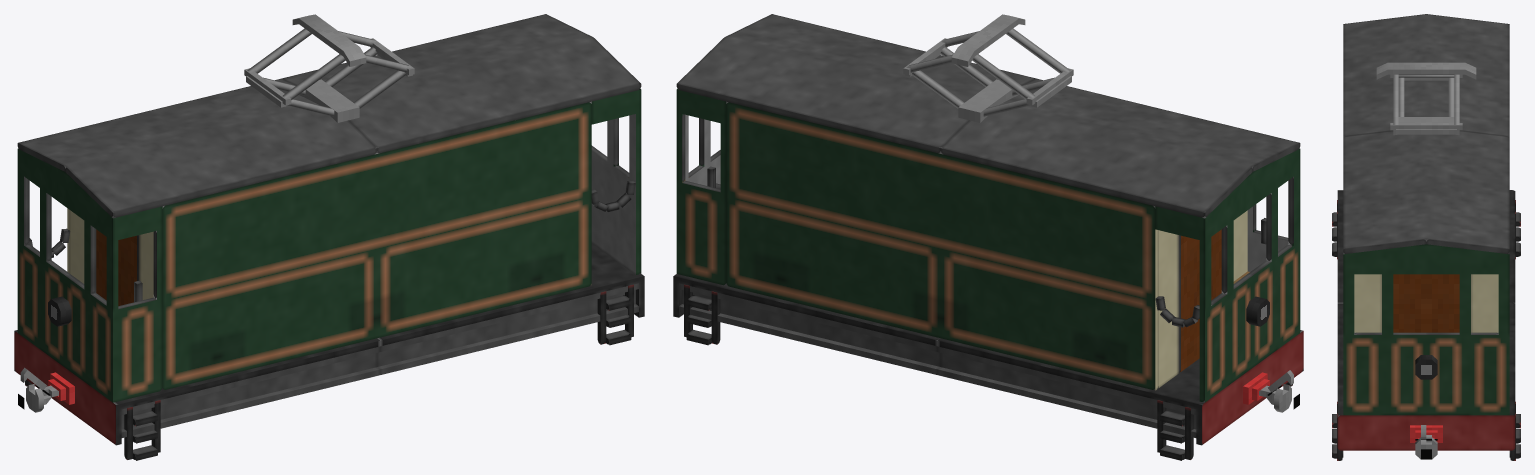
File: kitsune_electra_locomotive.obj
3 views of the same model, side by side, from view 1: azimuth 30°, elevation 25°; view 2: azimuth 150°, elevation 25°; view 3: azimuth 270°, elevation 25° (orthographic). The views are drawn at different scales.
Parts seen in each view (by area): view 1: FRAME_cab_Cube.041, FRAME_cab_roof_Cube.030, FRAME_cab.001_Cube.041, FRAME_Cube.005, FRAME.001_Cube.006, FRAME_INTERIOR_cab.001_Cube.044, FRAME_INTERIOR_cab_Cube.044, pantoarmtopfront_pantoarmtop, pantohead, DOOR_1_INTERIOR_Cube.009, COUPLER_ENGAGED_FRONT_1_TOGGLE_LABEL_Uncouple_Cube.018, pantoarmbottomrear_pantoarmtop.001 (+4 smaller); view 2: FRAME_cab_Cube.041, FRAME_cab_roof_Cube.030, FRAME_cab.001_Cube.041, FRAME_Cube.005, FRAME.001_Cube.006, FRAME_INTERIOR_cab_Cube.044, DOOR_2_INTERIOR_Cube.035, pantoarmtopfront_pantoarmtop, pantohead, COUPLER_ENGAGED_FRONT_1_TOGGLE_LABEL_Uncouple_Cube.018, FRAME_INTERIOR_cab.001_Cube.044, pantoarmbottomrear_pantoarmtop.001 (+4 smaller); view 3: FRAME_cab_roof_Cube.030, FRAME_cab.001_Cube.041, FRAME.001_Cube.006, FRAME_INTERIOR_cab.001_Cube.044, FRAME_Cube.005, DOOR_3_INTERIOR_Cube.038, DOOR_4_INTERIOR_Cube.039, pantohead, pantoarmtoprear_pantoarmtop, COUPLER_ENGAGED_REAR_2_TOGGLE_LABEL_Uncouple_Cube.018, pantoarmbottomfront_pantoarmtop.001, WIDGET_2_CG_headrear_TOGGLE_LABEL_Rear^Headlight_Cube.017 (+1 smaller).
Part boxes in pixels (x1=…): FRAME_cab_Cube.041: x1=17, y1=148, x2=376, y2=402; FRAME_cab_roof_Cube.030: x1=17, y1=14, x2=641, y2=217; FRAME_cab.001_Cube.041: x1=377, y1=88, x2=641, y2=338; FRAME_Cube.005: x1=14, y1=330, x2=380, y2=460; FRAME.001_Cube.006: x1=377, y1=273, x2=644, y2=374; FRAME_INTERIOR_cab.001_Cube.044: x1=375, y1=101, x2=635, y2=285; FRAME_INTERIOR_cab_Cube.044: x1=24, y1=176, x2=164, y2=305; pantoarmtopfront_pantoarmtop: x1=244, y1=28, x2=345, y2=105; pantohead: x1=292, y1=14, x2=366, y2=66; DOOR_1_INTERIOR_Cube.009: x1=118, y1=235, x2=136, y2=305; COUPLER_ENGAGED_FRONT_1_TOGGLE_LABEL_Uncouple_Cube.018: x1=18, y1=372, x2=74, y2=412; pantoarmbottomrear_pantoarmtop.001: x1=325, y1=47, x2=412, y2=108; FRAME_cab_Cube.041: x1=941, y1=148, x2=1300, y2=402; FRAME_cab_roof_Cube.030: x1=676, y1=14, x2=1300, y2=217; FRAME_cab.001_Cube.041: x1=676, y1=88, x2=940, y2=338; FRAME_Cube.005: x1=937, y1=330, x2=1303, y2=460; FRAME.001_Cube.006: x1=673, y1=274, x2=940, y2=374; FRAME_INTERIOR_cab_Cube.044: x1=1153, y1=193, x2=1290, y2=390; DOOR_2_INTERIOR_Cube.035: x1=1180, y1=235, x2=1199, y2=371; pantoarmtopfront_pantoarmtop: x1=972, y1=28, x2=1073, y2=105; pantohead: x1=951, y1=14, x2=1025, y2=66; COUPLER_ENGAGED_FRONT_1_TOGGLE_LABEL_Uncouple_Cube.018: x1=1243, y1=372, x2=1299, y2=412; FRAME_INTERIOR_cab.001_Cube.044: x1=685, y1=101, x2=942, y2=185; pantoarmbottomrear_pantoarmtop.001: x1=905, y1=47, x2=992, y2=108; FRAME_cab_roof_Cube.030: x1=1343, y1=14, x2=1509, y2=253; FRAME_cab.001_Cube.041: x1=1343, y1=244, x2=1509, y2=415; FRAME.001_Cube.006: x1=1332, y1=302, x2=1520, y2=460; FRAME_INTERIOR_cab.001_Cube.044: x1=1343, y1=253, x2=1498, y2=334; FRAME_Cube.005: x1=1332, y1=190, x2=1520, y2=303; DOOR_3_INTERIOR_Cube.038: x1=1426, y1=274, x2=1459, y2=332; DOOR_4_INTERIOR_Cube.039: x1=1393, y1=274, x2=1426, y2=332; pantohead: x1=1376, y1=62, x2=1476, y2=79; pantoarmtoprear_pantoarmtop: x1=1390, y1=74, x2=1462, y2=130; COUPLER_ENGAGED_REAR_2_TOGGLE_LABEL_Uncouple_Cube.018: x1=1410, y1=425, x2=1442, y2=459; pantoarmbottomfront_pantoarmtop.001: x1=1398, y1=77, x2=1454, y2=116; WIDGET_2_CG_headrear_TOGGLE_LABEL_Rear^Headlight_Cube.017: x1=1415, y1=355, x2=1437, y2=379.
Size of the model in its own units: 7 by 3.69 by 2.13.
5 materials, 5 textured.
